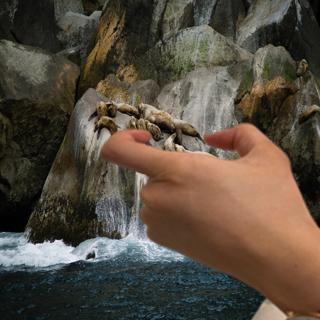HATE: (89, 115, 320, 288)
